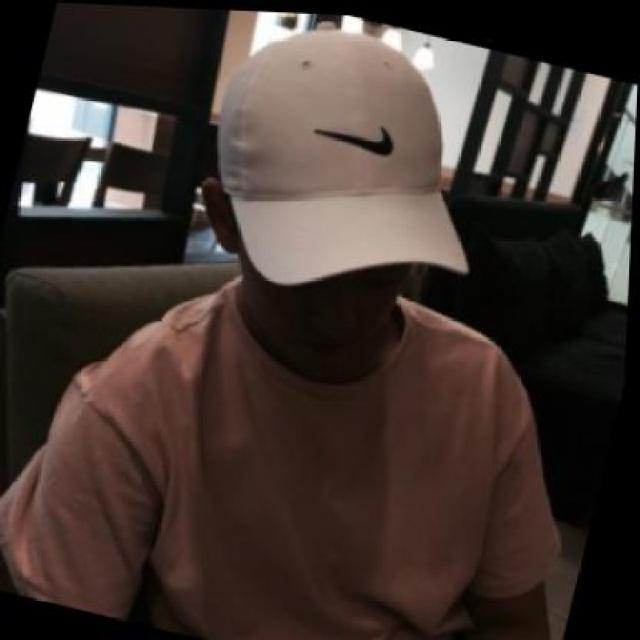hat: (184, 7, 516, 321)
